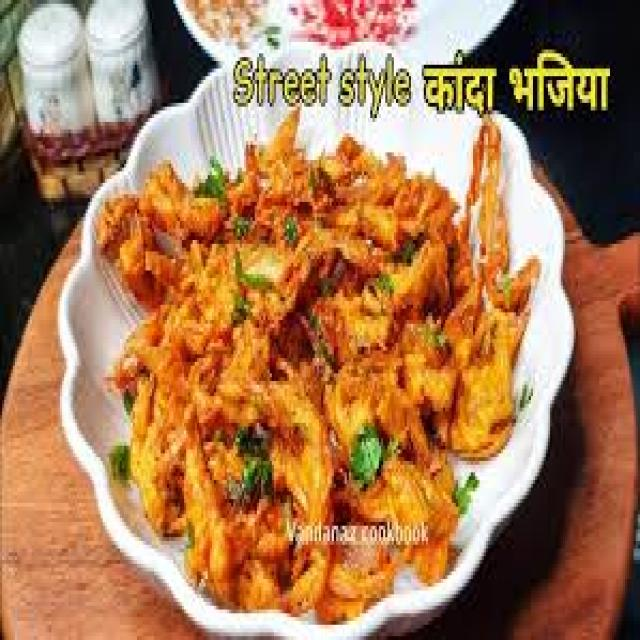BAJI: (92, 118, 539, 631)
